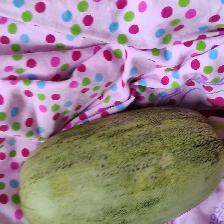gua: (26, 114, 222, 222)
